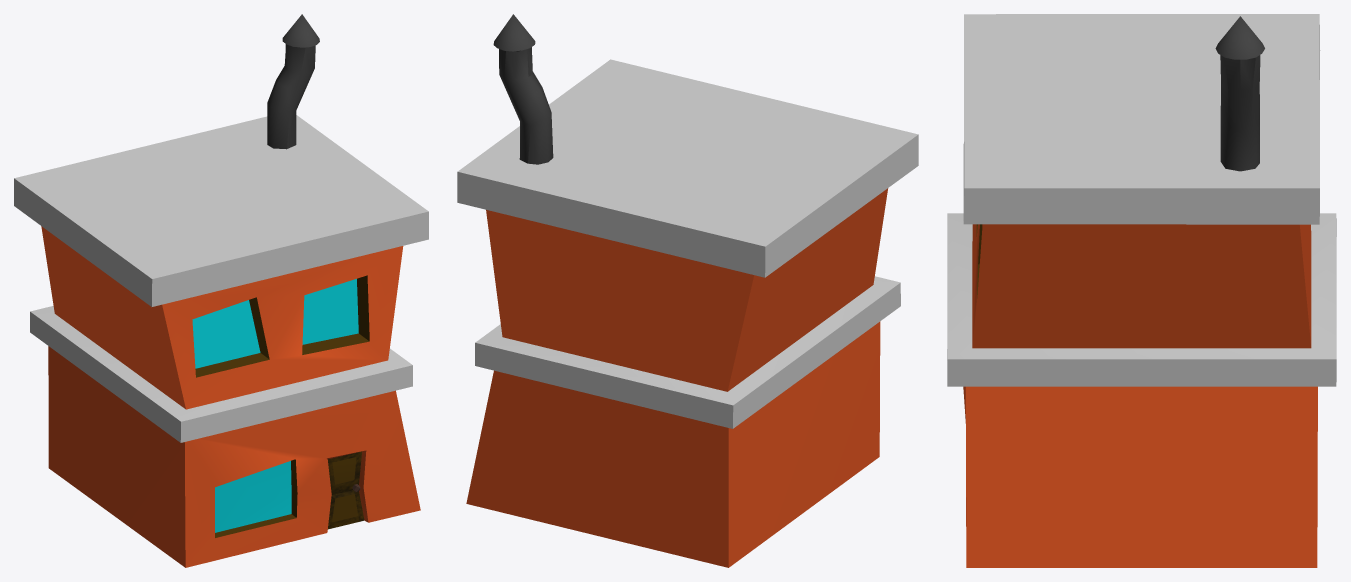
File: PredioPequeno-LaranjaLOD1.fbx
3 views of the same model, side by side, from view 1: azimuth 30°, elevation 25°; view 2: azimuth 150°, elevation 25°; view 3: azimuth 270°, elevation 25° (orthographic). The views are drawn at different scales.
Parts seen in each view (by area): view 1: Predio2AndaresLOD1; view 2: Predio2AndaresLOD1; view 3: Predio2AndaresLOD1.
Part boxes in pixels (left/top/right/bottom): Predio2AndaresLOD1: left=14, top=14, right=428, bottom=567; Predio2AndaresLOD1: left=457, top=14, right=918, bottom=567; Predio2AndaresLOD1: left=947, top=14, right=1336, bottom=567.
Bounding box in the file's own units: 712 × 1035 × 672.
